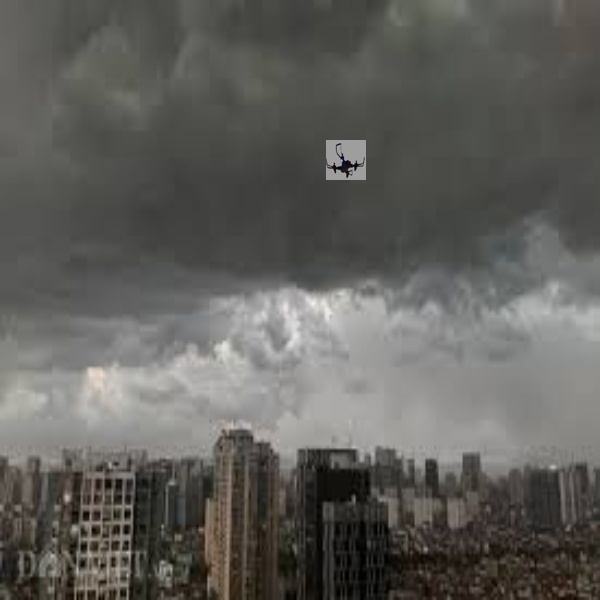drone: (325, 135, 369, 184)
